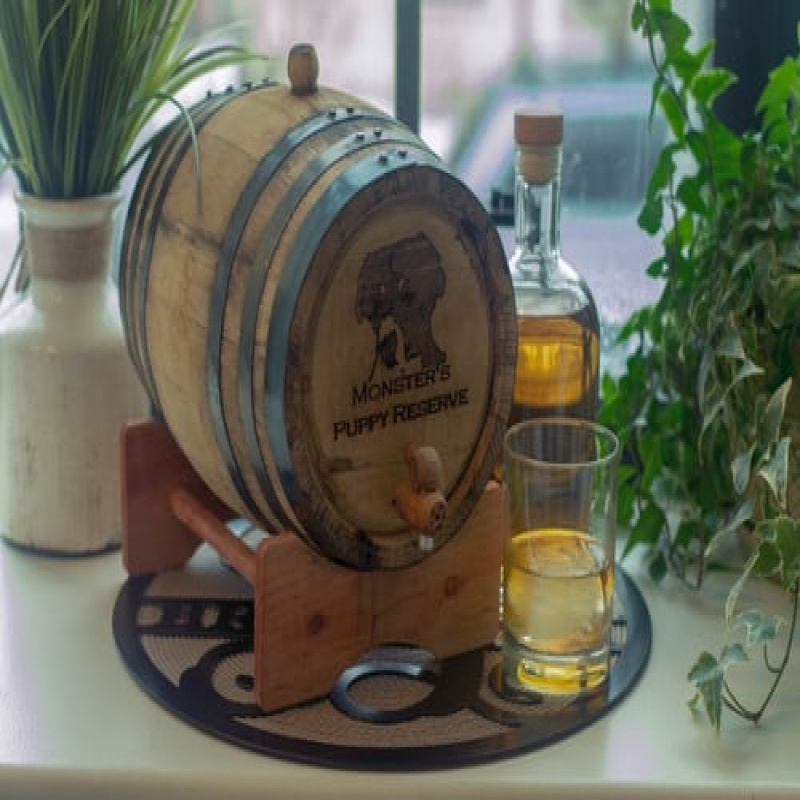whiskey: (512, 420, 625, 689)
